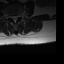CCS_normal: (13, 14, 15, 24)
LFS_normal: (18, 12, 20, 19)
LLS_normal: (15, 13, 18, 22)
RFS_normal: (9, 13, 11, 19)
RLS_normal: (11, 13, 13, 21)
